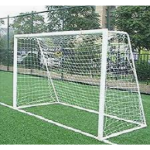goals: (13, 27, 147, 141)
